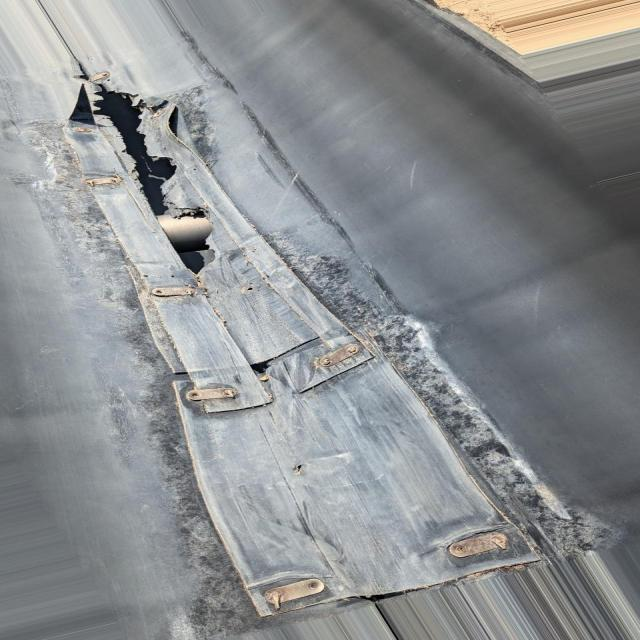Hole: (104, 95, 211, 272)
patch work: (76, 67, 556, 617)
